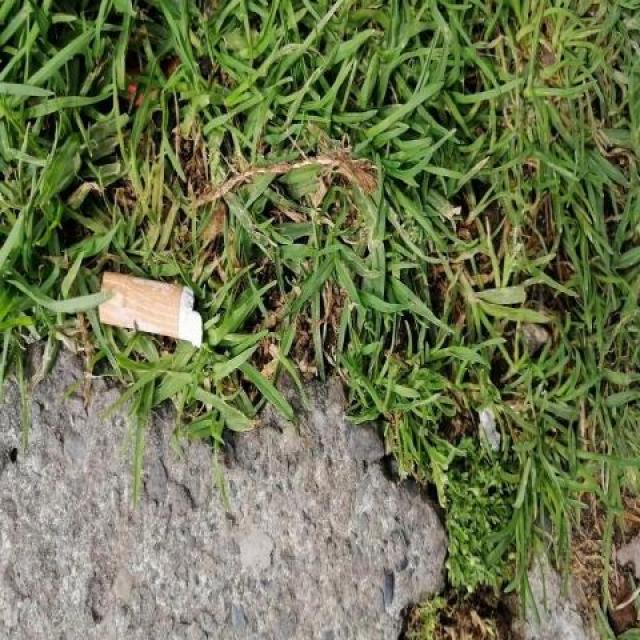non-organic waste: (96, 268, 205, 349)
